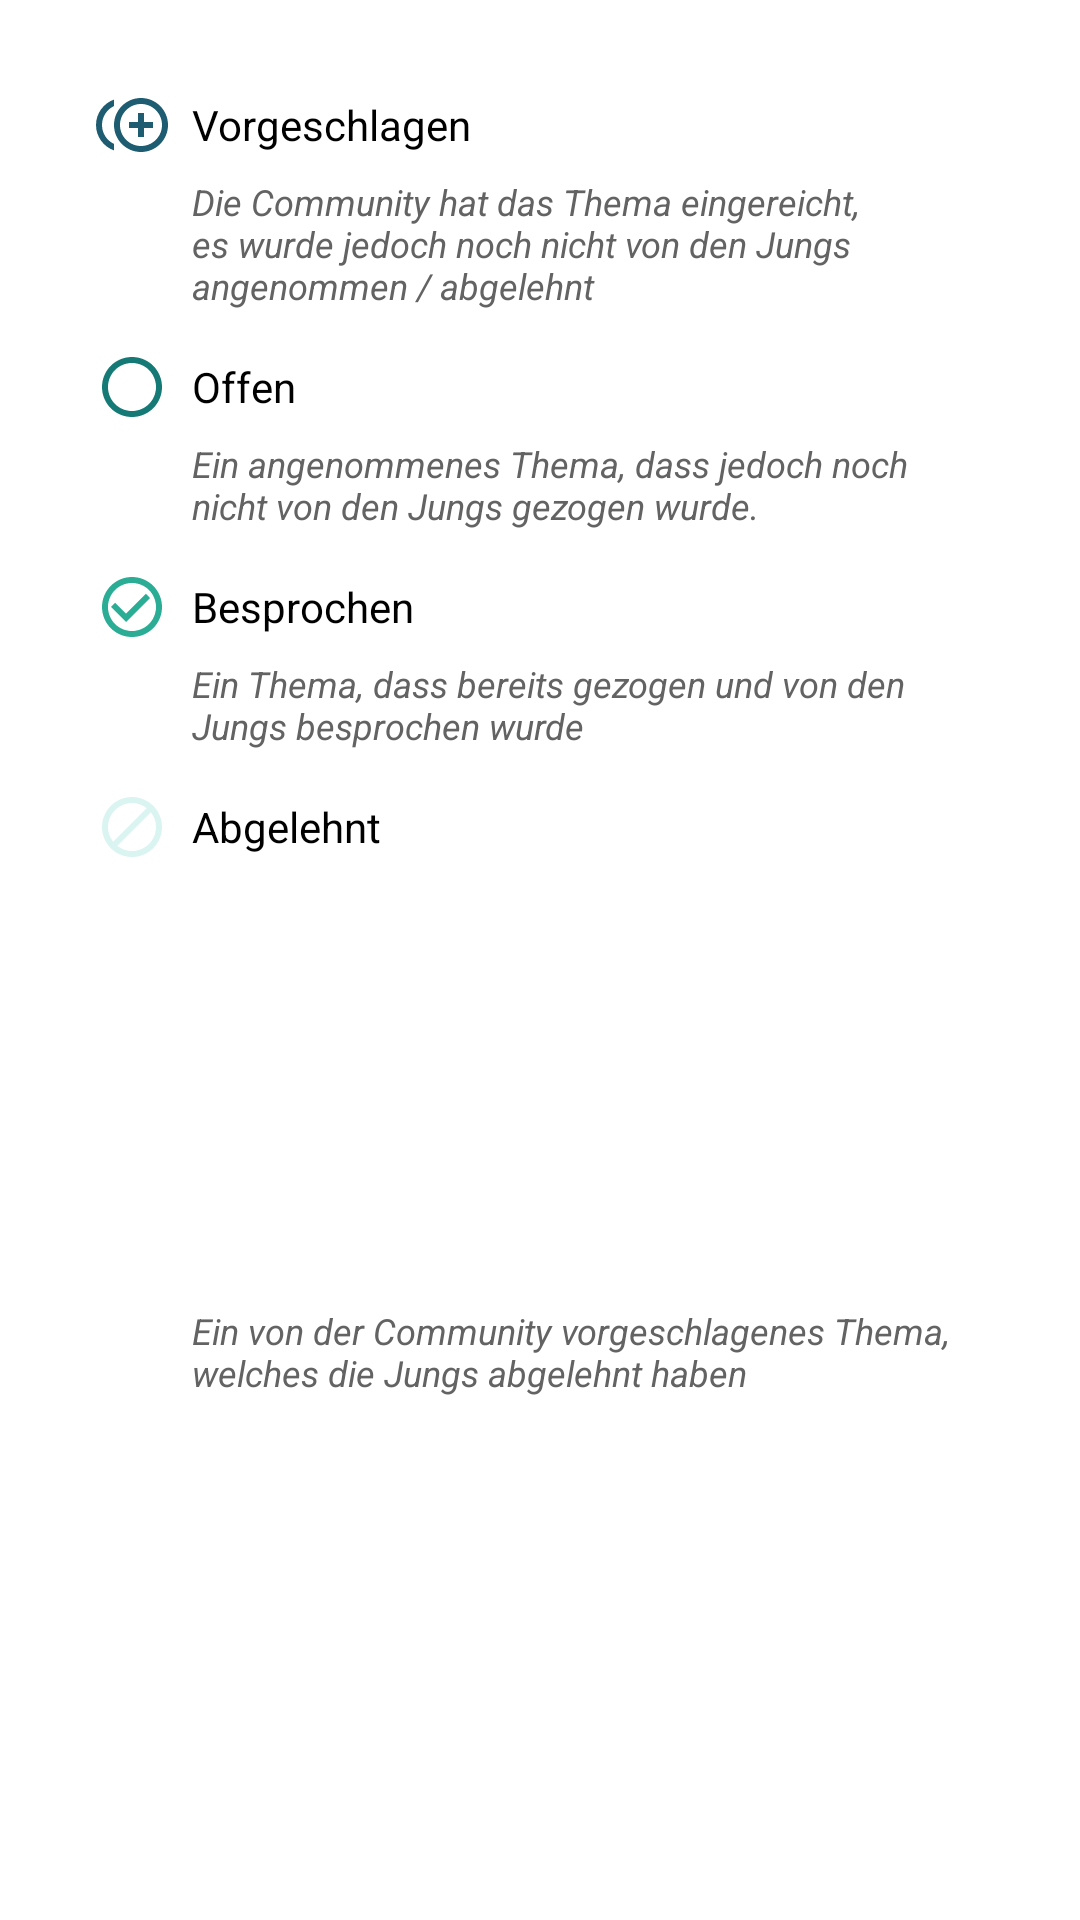

Icons on this 1080×1920 Android screen, each with its box as {"left": x1, "top": y1, "right": x2, "bottom": y2}:
Ein durchgestrichener Kreis: {"left": 102, "top": 797, "right": 162, "bottom": 857}
Ein Kreis mit einem Häckchen in der Mitte: {"left": 102, "top": 577, "right": 162, "bottom": 637}
Zwei Kreise nebeneinander. In dem 2. ist ein Plus: {"left": 96, "top": 98, "right": 168, "bottom": 152}
